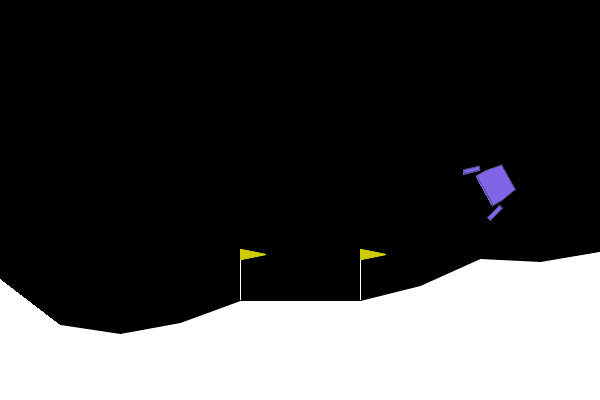lander: (460, 150, 525, 222)
